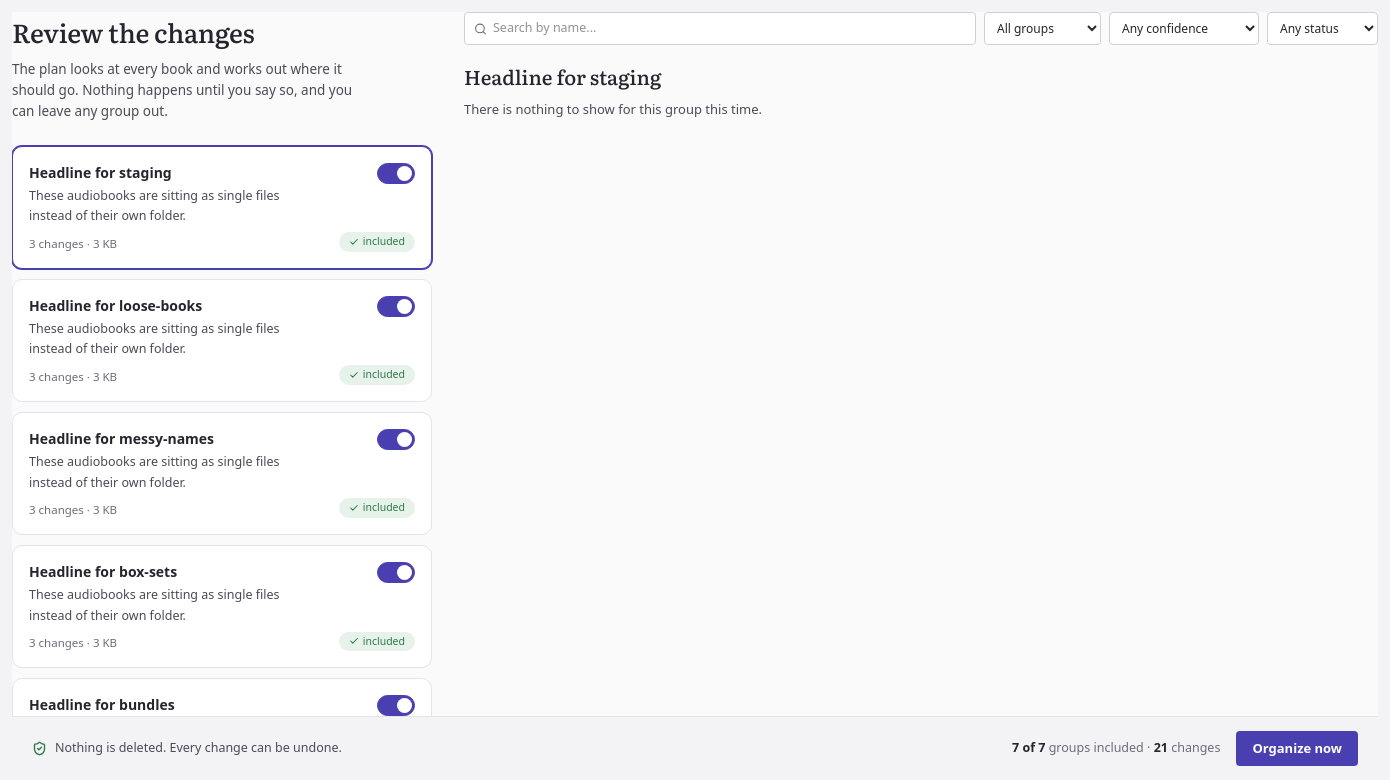
it: Review › the confirm affordance leads to the honest not-yet state rather than applying anything
Click the button "Organize now". click: (1297, 748)
box: [1236,730,1358,766]
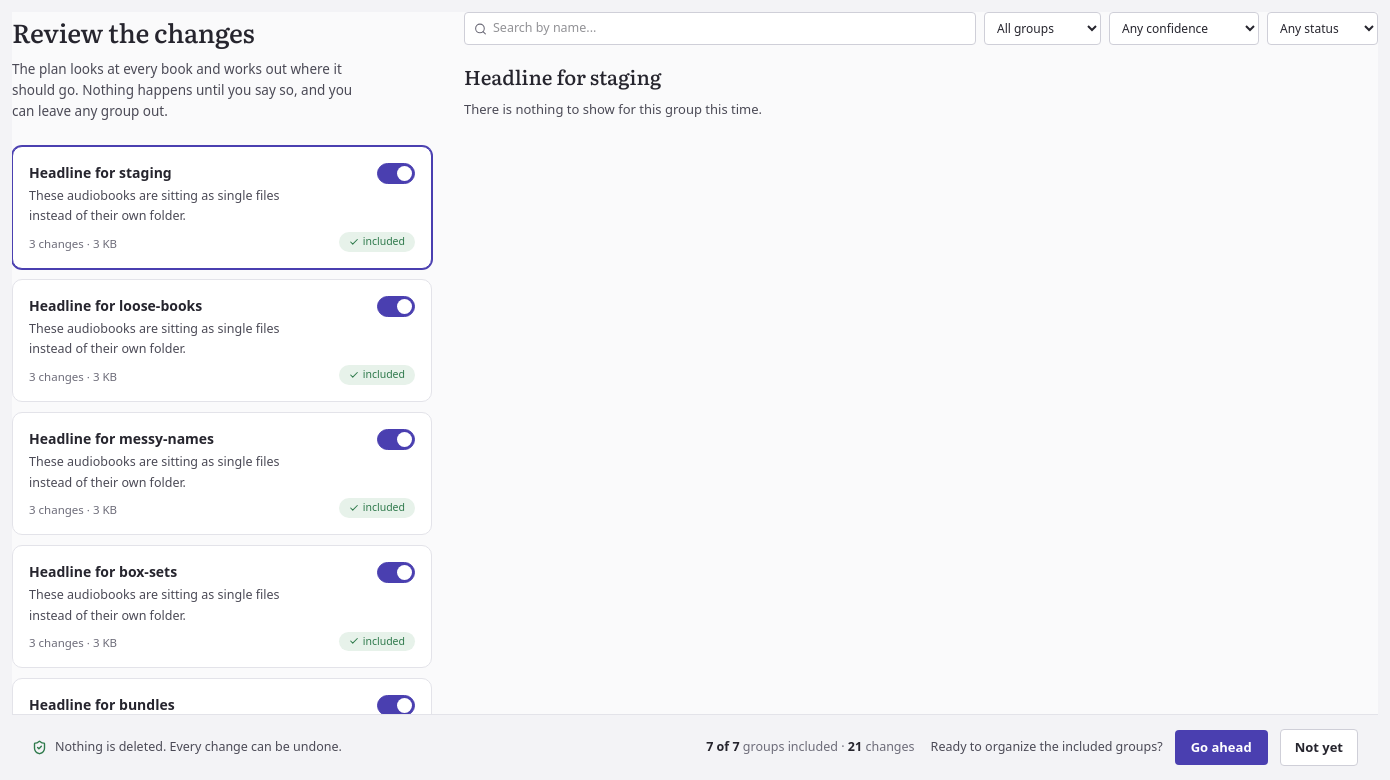
Click the button "Go ahead". click: (1221, 747)
box: [1175,730,1268,765]
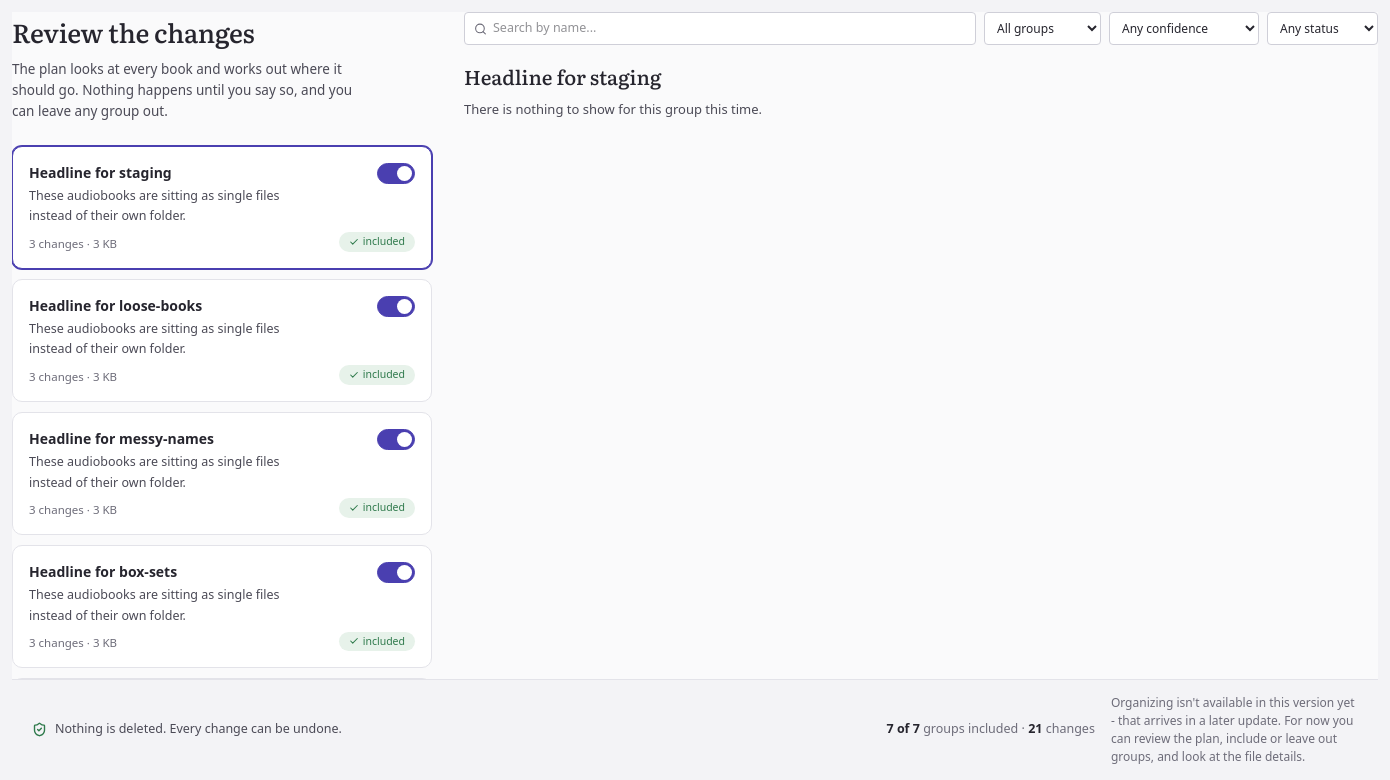
expect the text "isn't available in this version yet" is shown: met, box [1111,694,1355,765]
